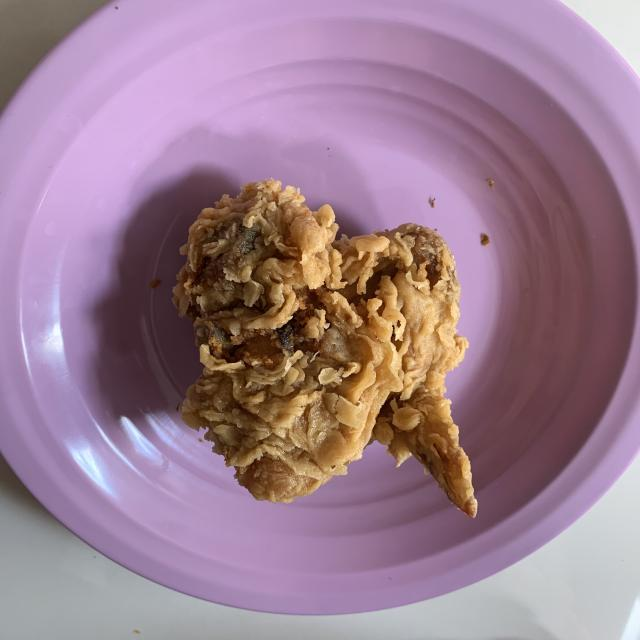Wet Waste: (172, 177, 479, 516)
